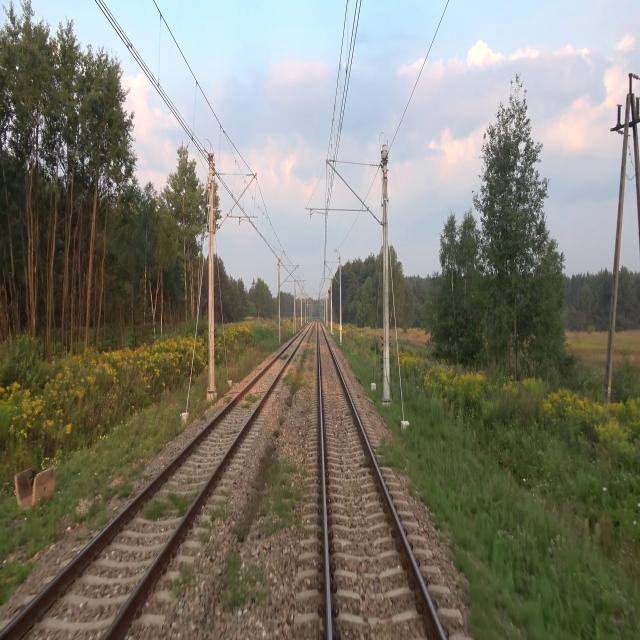rail-track: (5, 332, 304, 639), (319, 323, 440, 639)
